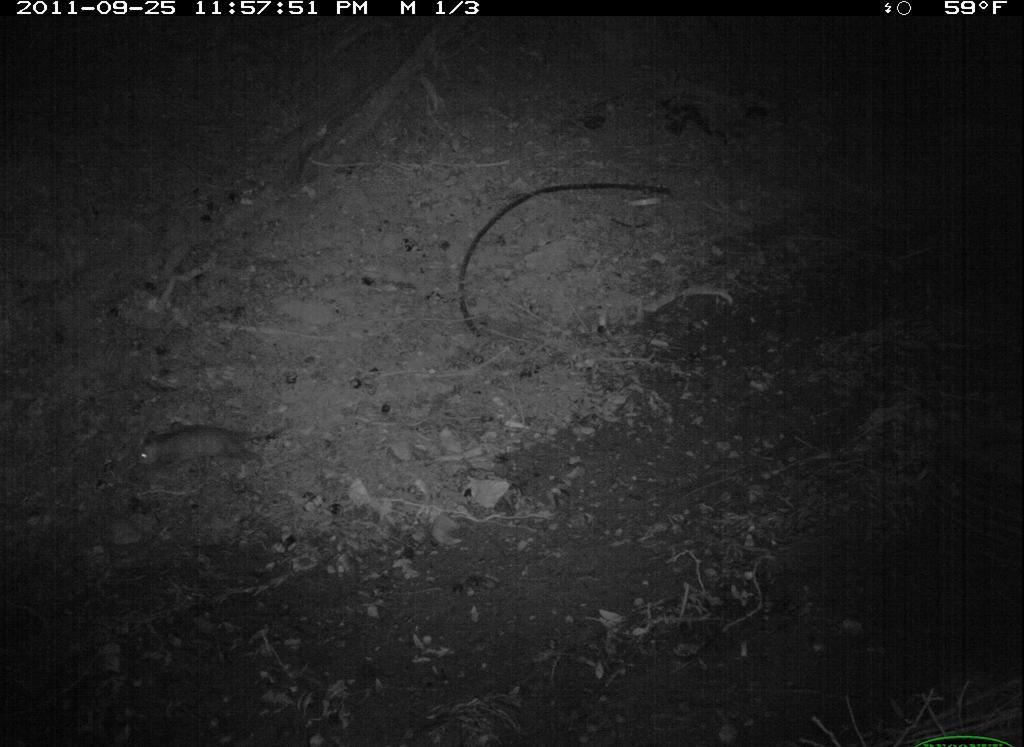opossum: (127, 417, 276, 479)
